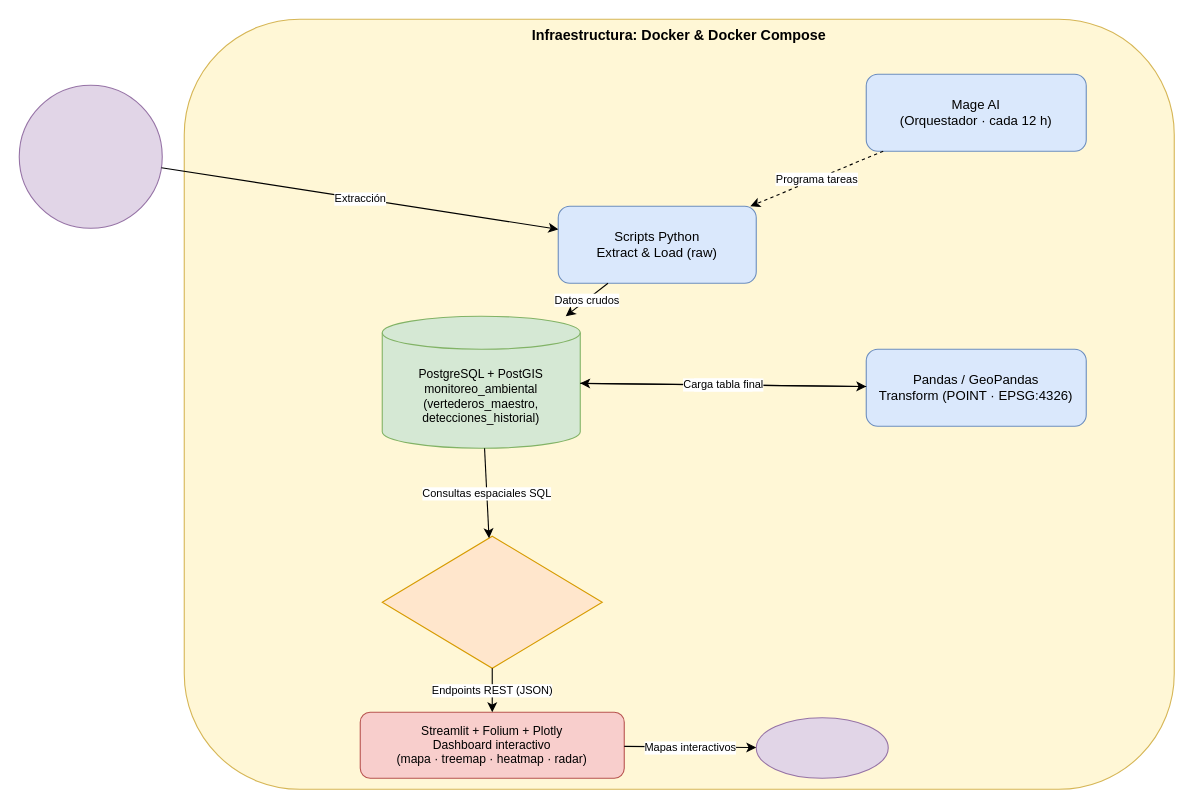
This 1194x809 diagram has some shape labels left out. The shapes that lost their labels are listed below. From the top down, each one's box as (x1, y1, x2, y2) in pixels, then its label:
(18, 84, 162, 228): Fuente de Datos (GeoJSON de vertederos actualizado periódicamente)
(381, 535, 602, 668): FastAPI + Uvicorn API REST /locations · /locations/radius
(755, 717, 888, 778): Usuario de Negocio
